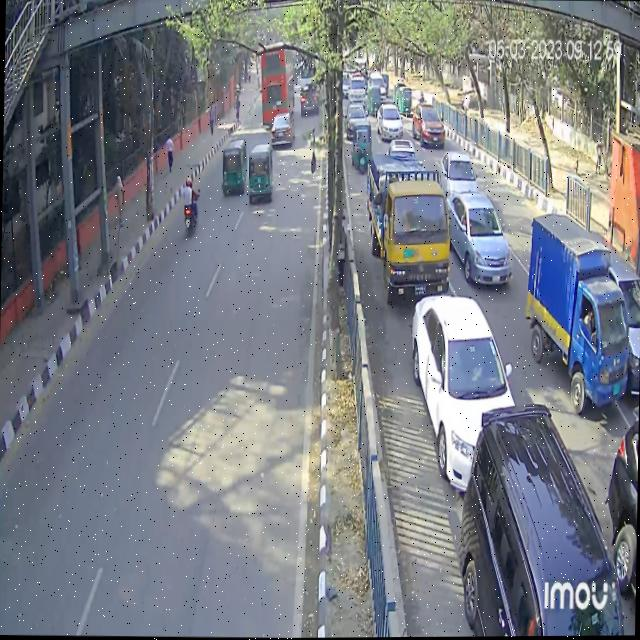cng: (247, 142, 276, 205), (218, 139, 246, 202), (350, 117, 372, 174), (401, 86, 414, 119), (366, 85, 379, 115)
